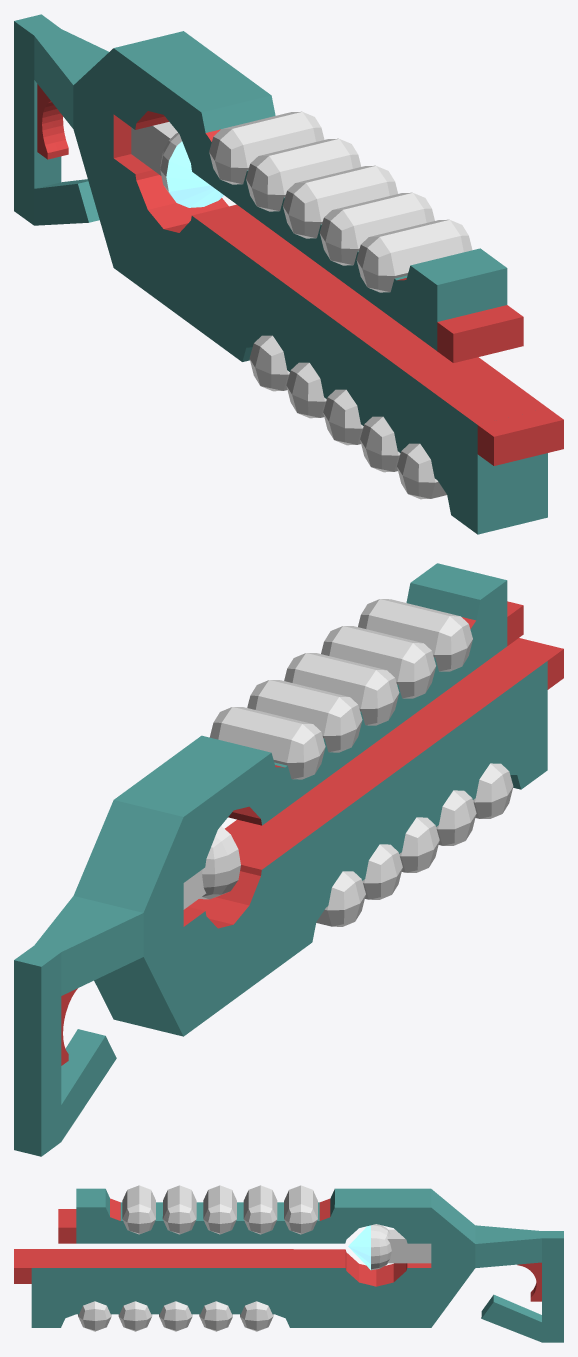
File: LaserGun.fbx
3 renders of one model, top to bottom at view 1: azimuth 30°, elevation 25°; view 2: azimuth 150°, elevation 25°; view 3: azimuth 270°, elevation 25°, orthographic. The views are drawn at different scales.
Parts seen in each view (by area): view 1: Lasergun; view 2: Lasergun; view 3: Lasergun.
Part boxes in pixels (x1,y1,x2,y2): Lasergun: (14, 14, 563, 534); Lasergun: (14, 563, 563, 1156); Lasergun: (14, 1185, 563, 1342).
Size of the model in its own units: 0.1501 by 0.3586 by 1.24.
